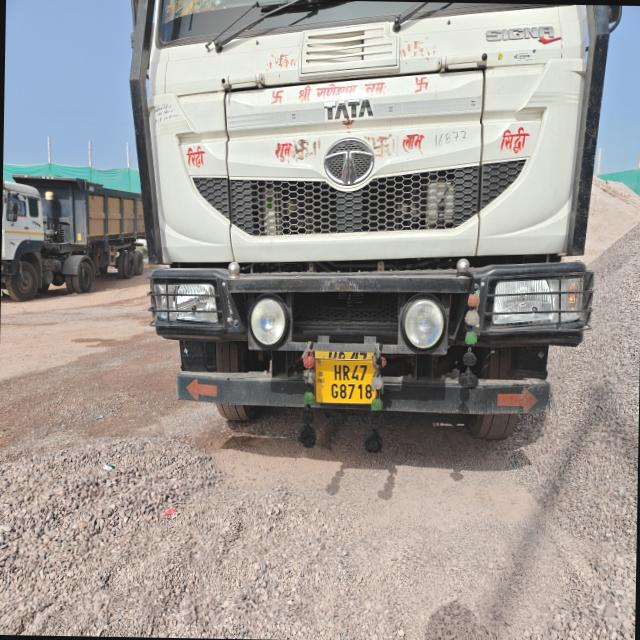license_plate: (315, 351, 374, 403)
